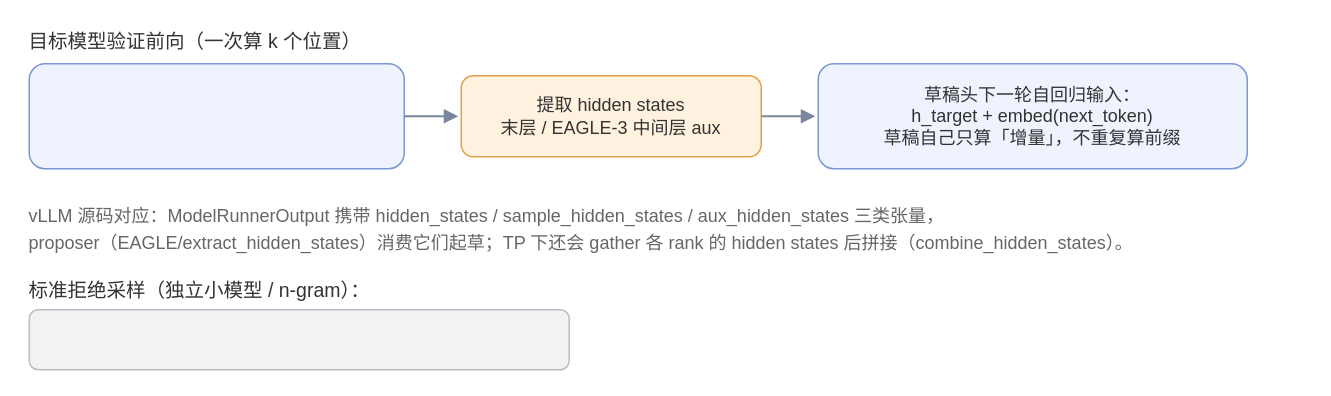
The diagram is 1331 pixels wide and 396 high, and some of its shapes have lost their labels. Each missing label, with the centre of its shape:
"hidden states 各算各的，不传输 —— 只有 token id 与概率分布交换" goes at point 298,339.
"target forward 输出三样：token ids、 p 分布、last hidden states" goes at point 216,115.
